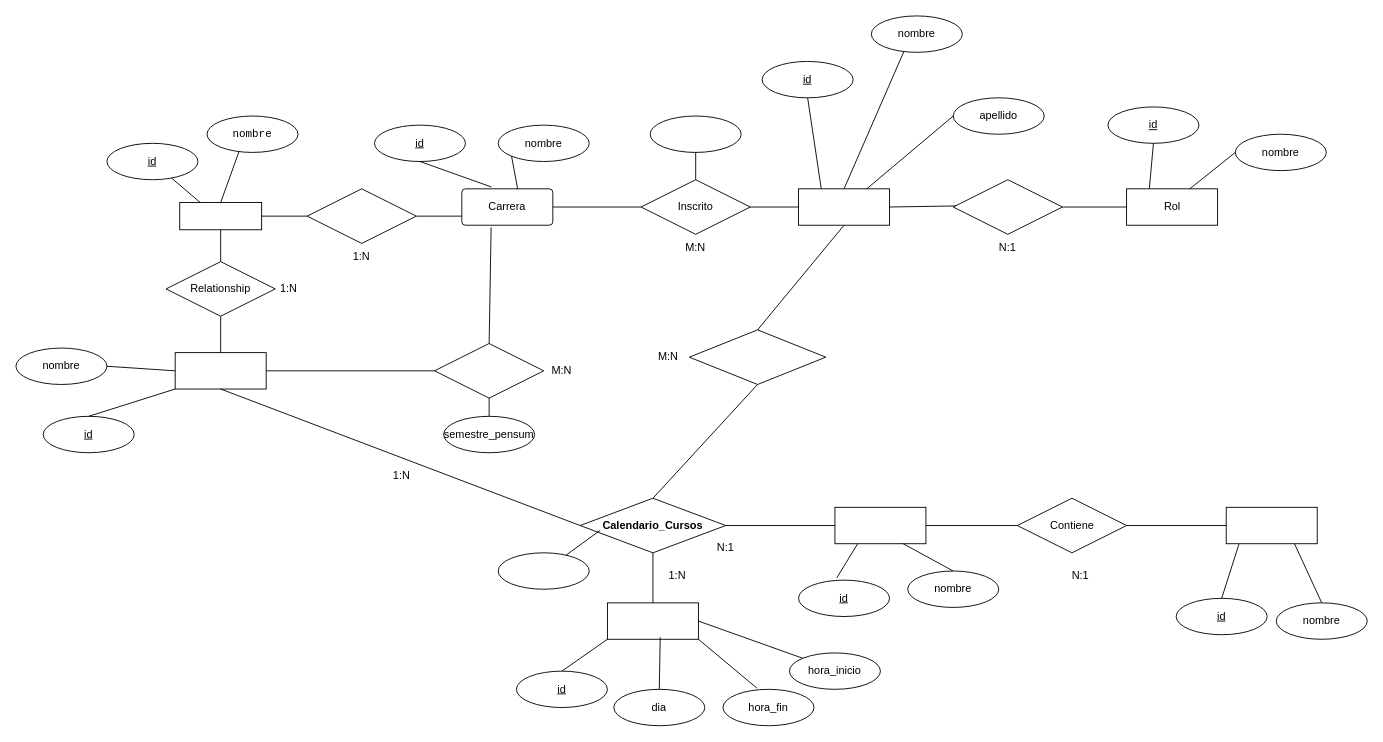
This 1383x742 diagram has some shape labels left out. The centre of each missing label's shape, as x and y in pixels:
"Clasifica" goes at (x=1007, y=206).
"cupo" goes at (x=543, y=570).
"Curso" goes at (x=220, y=370).
"Cursos_Estudiantes" goes at (x=757, y=356).
"Edificio" goes at (x=1271, y=525).
"Facultad" goes at (x=220, y=216).
"Horario" goes at (x=652, y=620).
"Pensum" goes at (x=489, y=370).
"pertenece" goes at (x=361, y=215).
"Salón" goes at (x=880, y=525).
"semestre_actual" goes at (x=695, y=133).
"Usuario" goes at (x=844, y=206).
